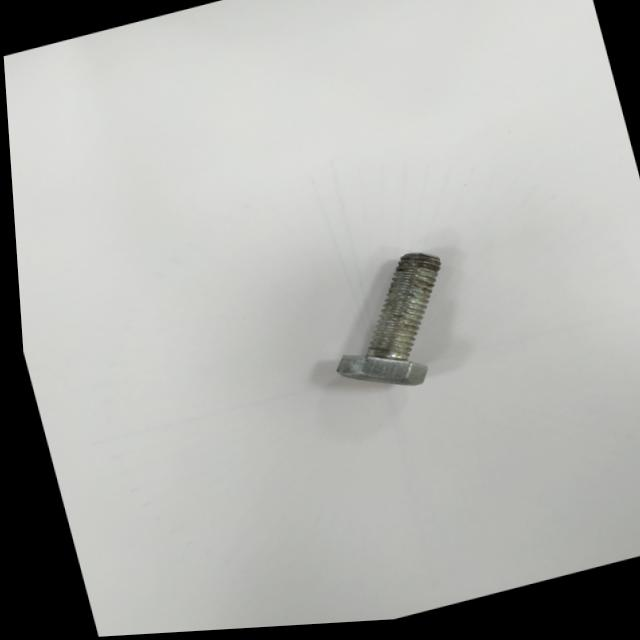Bolt: (331, 259, 439, 390)
